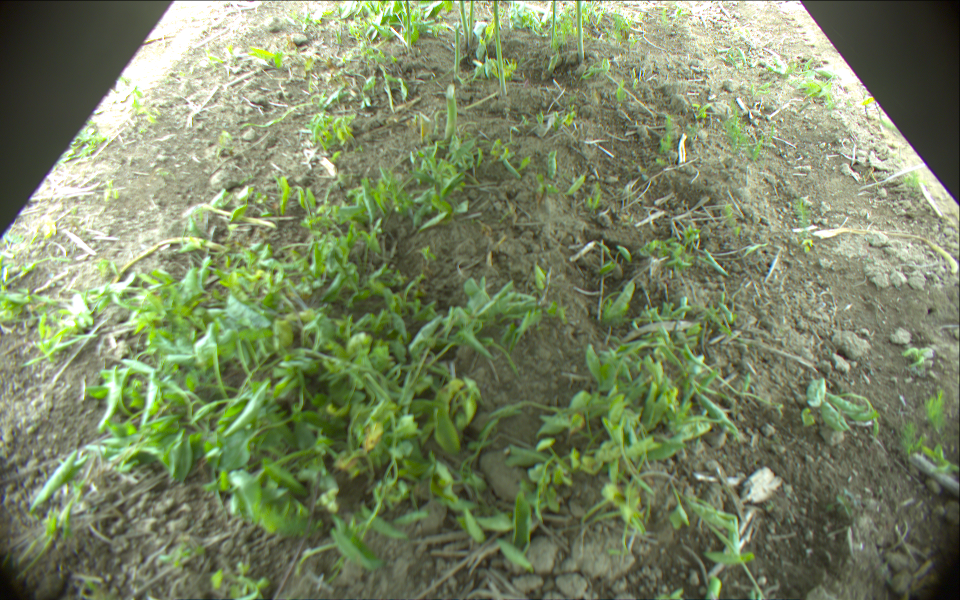aspa: (492, 1, 508, 95), (547, 1, 559, 73), (444, 84, 457, 138), (575, 1, 585, 63), (452, 22, 463, 74), (459, 1, 470, 45), (404, 1, 413, 51), (468, 1, 476, 46)
